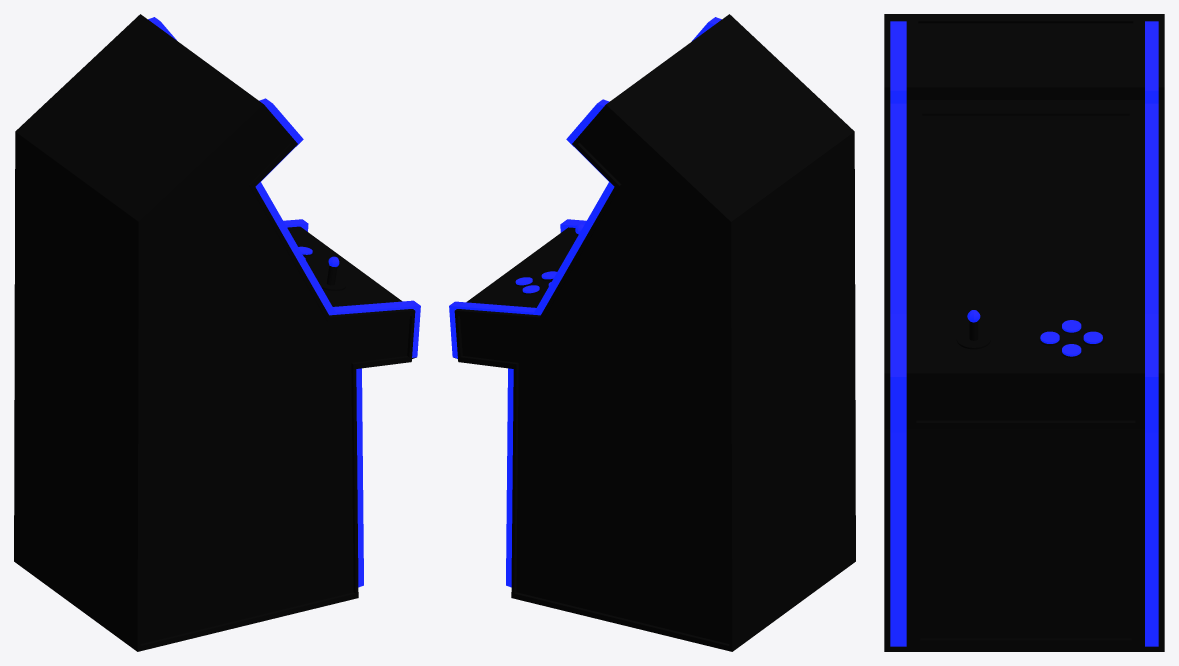
Rendered from Arcade Machine Blue.glb.
3 renders of one model, left to right at view 1: azimuth 30°, elevation 25°; view 2: azimuth 150°, elevation 25°; view 3: azimuth 270°, elevation 25°, orthographic. The views are drawn at different scales.
Parts seen in each view (by area): view 1: Arcade Machine Blue; view 2: Arcade Machine Blue; view 3: Arcade Machine Blue.
Part boxes in pixels (x1,y1,x2,y2): Arcade Machine Blue: (14, 14, 420, 651); Arcade Machine Blue: (449, 14, 855, 651); Arcade Machine Blue: (884, 14, 1164, 651).
Bounding box in the file's own units: 1.74 × 3 × 1.3.
